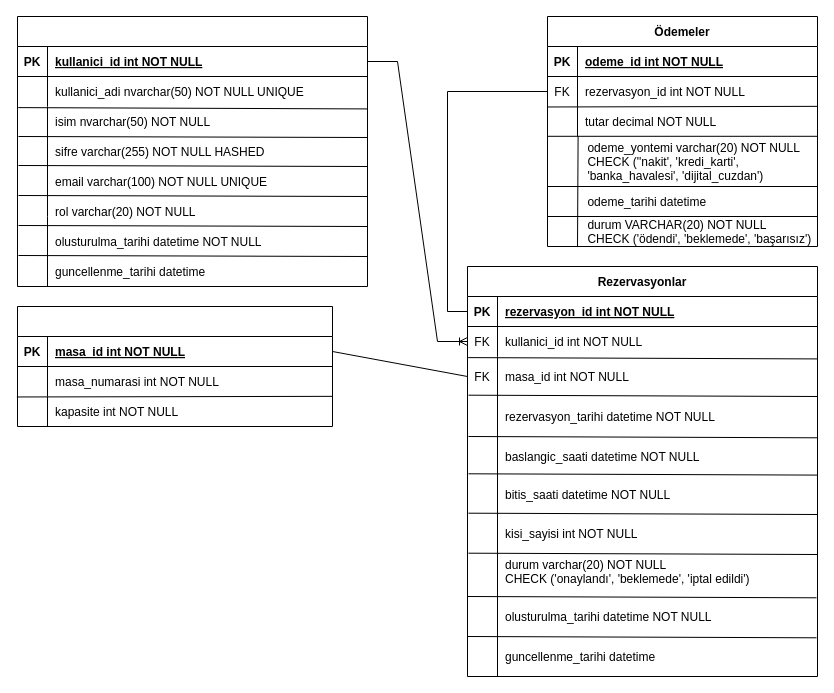
Some shapes in this 834 by 693 pixel diagram are drawn without their labels. The shapes that lost their labels are listed below. From the top down, each one's box as (x1, y1, x2, y2) in pixels, then its label:
(16, 16, 368, 286): Kullanıcılar
(16, 306, 332, 426): Masalar
